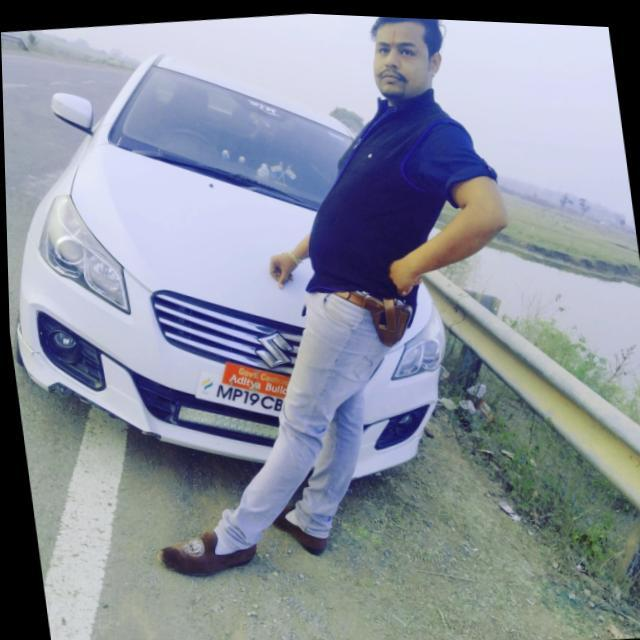weapon: (358, 285, 417, 348)
